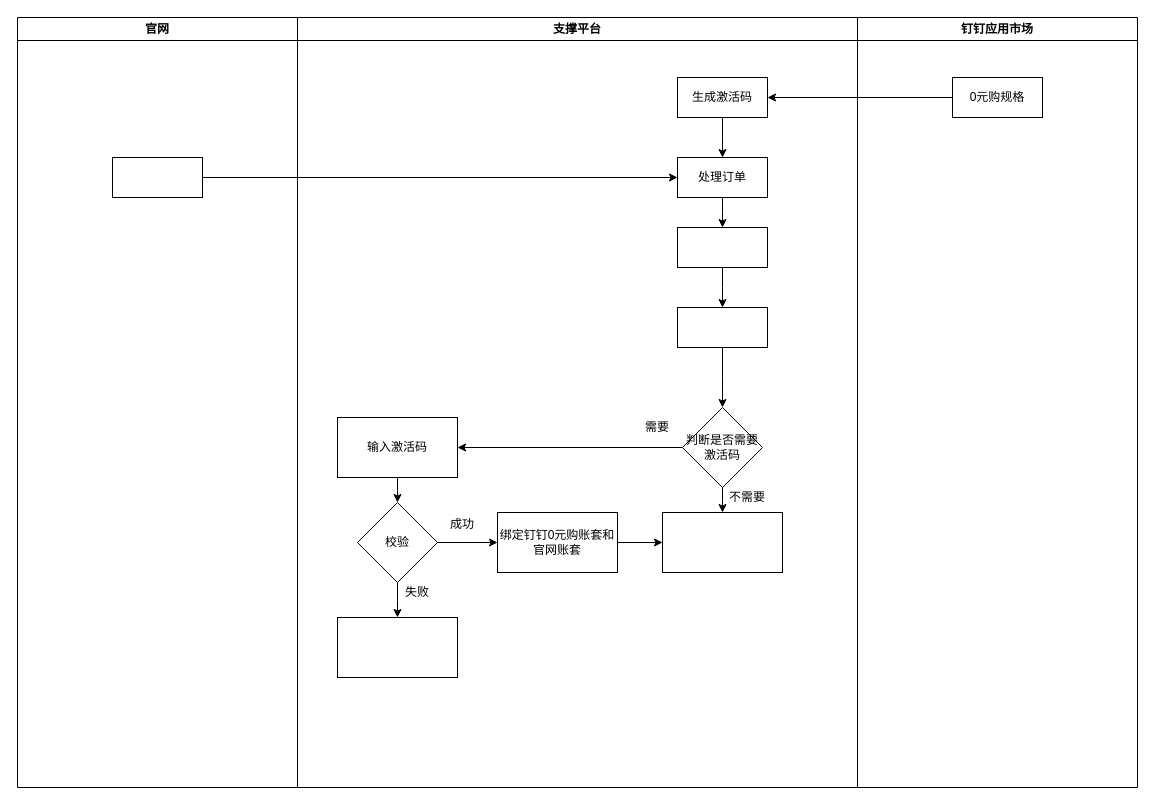
The diagram is 1155 pixels wide and 805 high, and some of its shapes have lost their labels. Each missing label, with the centre of its shape:
开通服务: pixel 722 247
登录产品: pixel 722 327
购买: pixel 157 177
进入产品: pixel 722 542
退出产品 提示输入正确激活码: pixel 397 647
